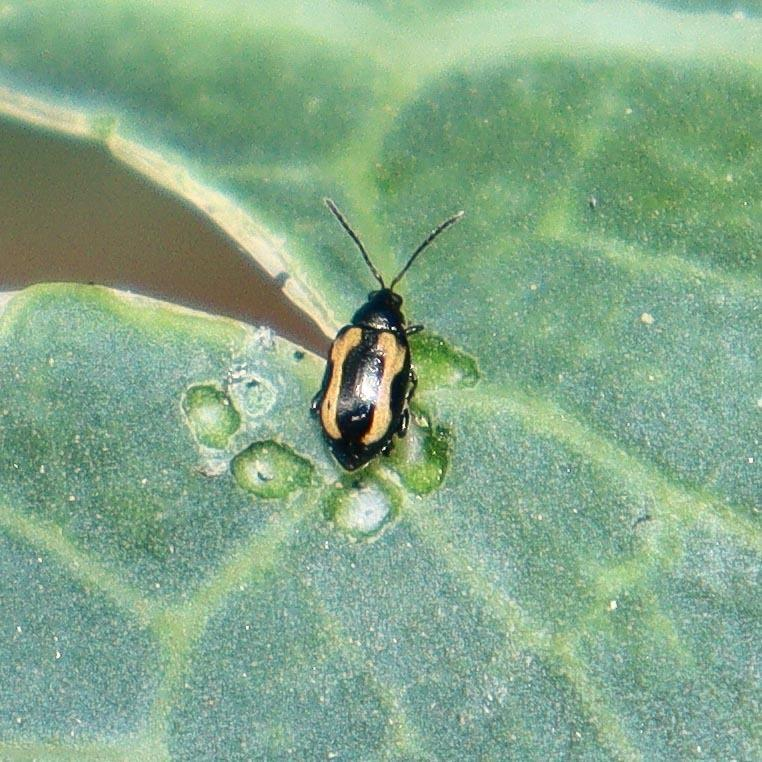flea_beetle: (260, 169, 489, 500)
